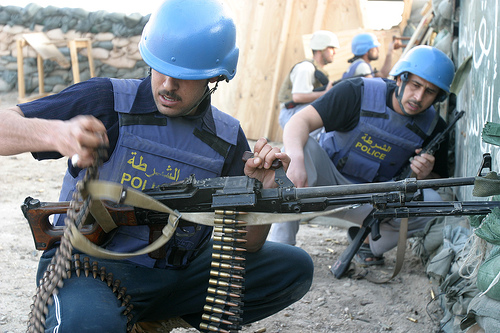rifle: (255, 172, 480, 223)
rifle in hand: (103, 139, 481, 249)
